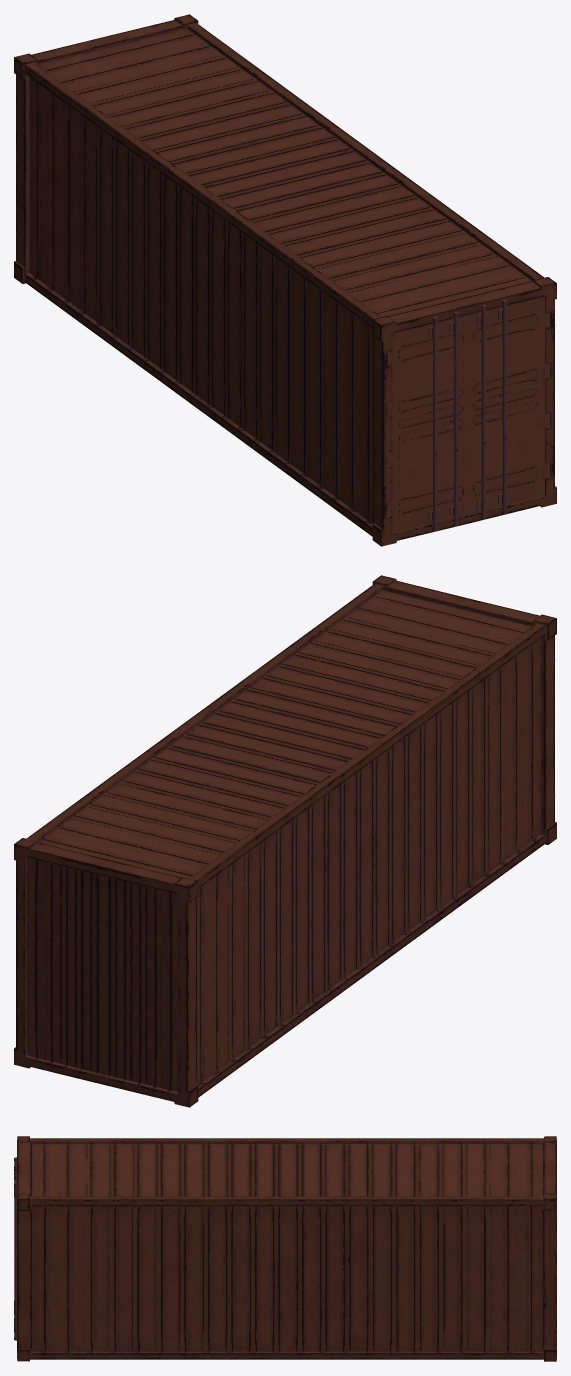
Rendered from SM_container.gltf.
3 views of the same model, one above another, from view 1: azimuth 30°, elevation 25°; view 2: azimuth 150°, elevation 25°; view 3: azimuth 270°, elevation 25° (orthographic). The views are drawn at different scales.
Visible parts, largest first — view 1: SM_container; view 2: SM_container; view 3: SM_container.
Part boxes in pixels (x1,y1,x2,y2): SM_container: (14,14,556,546); SM_container: (14,575,556,1107); SM_container: (14,1136,556,1361).
Size of the model in its own units: 3.36 by 4.03 by 12.22.
Materials: 1 (1 with a texture image).
